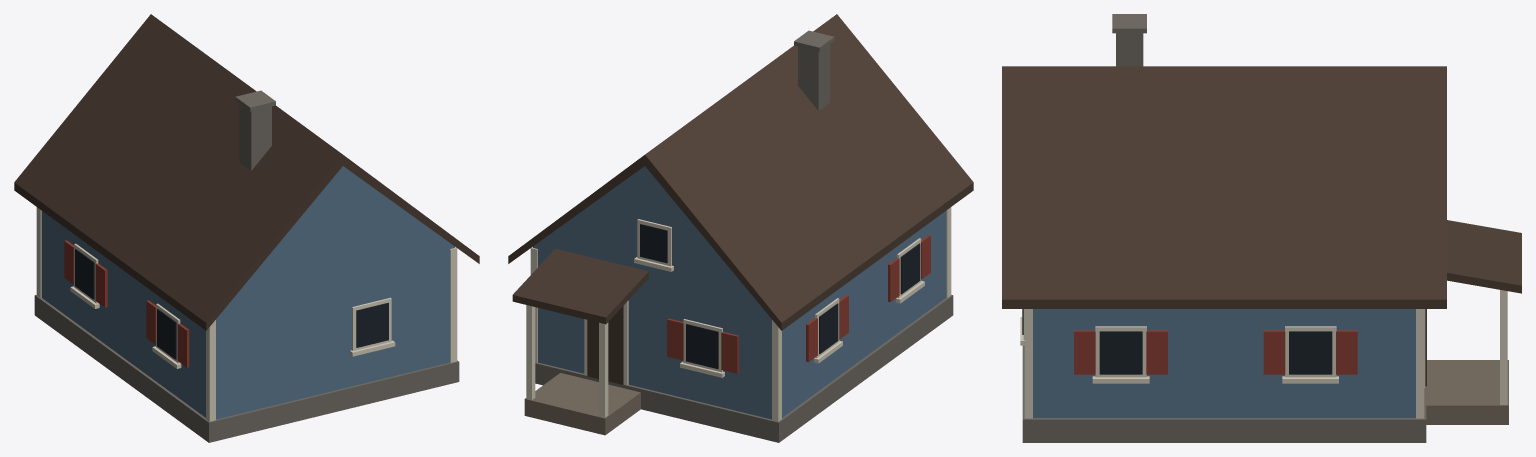
File: house_b.glb
3 renders of one model, left to right at view 1: azimuth 30°, elevation 25°; view 2: azimuth 150°, elevation 25°; view 3: azimuth 270°, elevation 25°, orthographic. The views are drawn at different scales.
Visible parts, largest first — view 1: house_b; view 2: house_b; view 3: house_b.
Boxes of the visible parts, x1=… form: house_b: x1=14, y1=14, x2=479, y2=442; house_b: x1=508, y1=14, x2=973, y2=442; house_b: x1=1002, y1=14, x2=1521, y2=442.
Bounding box in the file's own units: 4.24 × 4.26 × 6.03.
